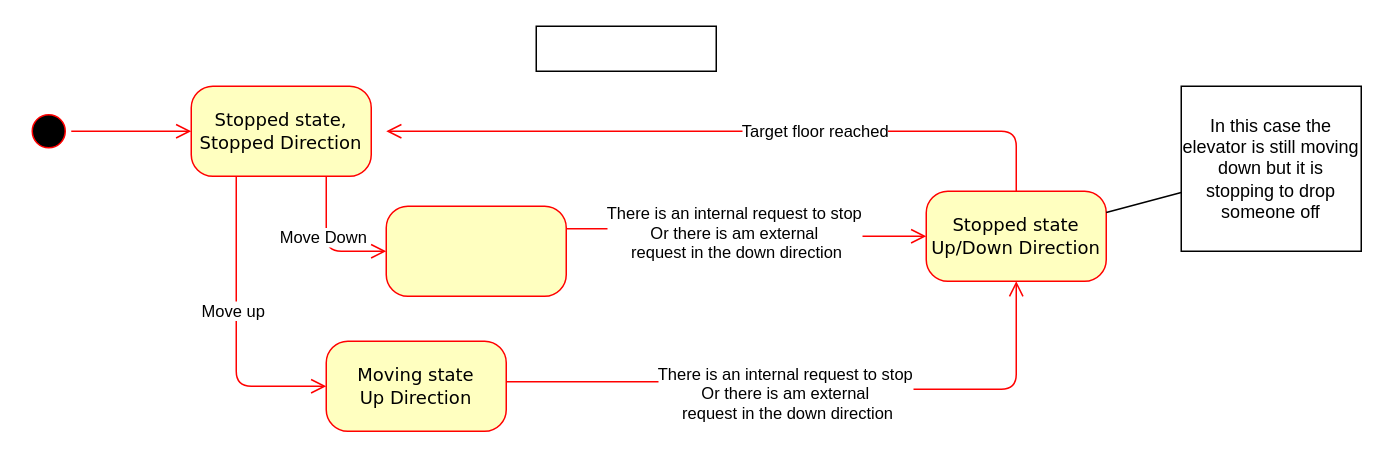
Image size: 1388x458. Some labels were removed from this diagram. Here are the shapes that lost their labels. From the top down, the centre of each, then its label:
the point at 625,48: Lift State Machine
the point at 475,250: Moving state Down Direction
